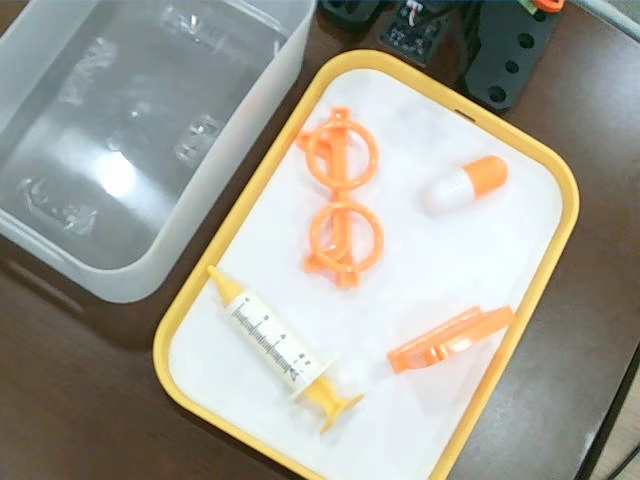pill: (419, 156, 510, 215)
syringe: (206, 261, 368, 438)
